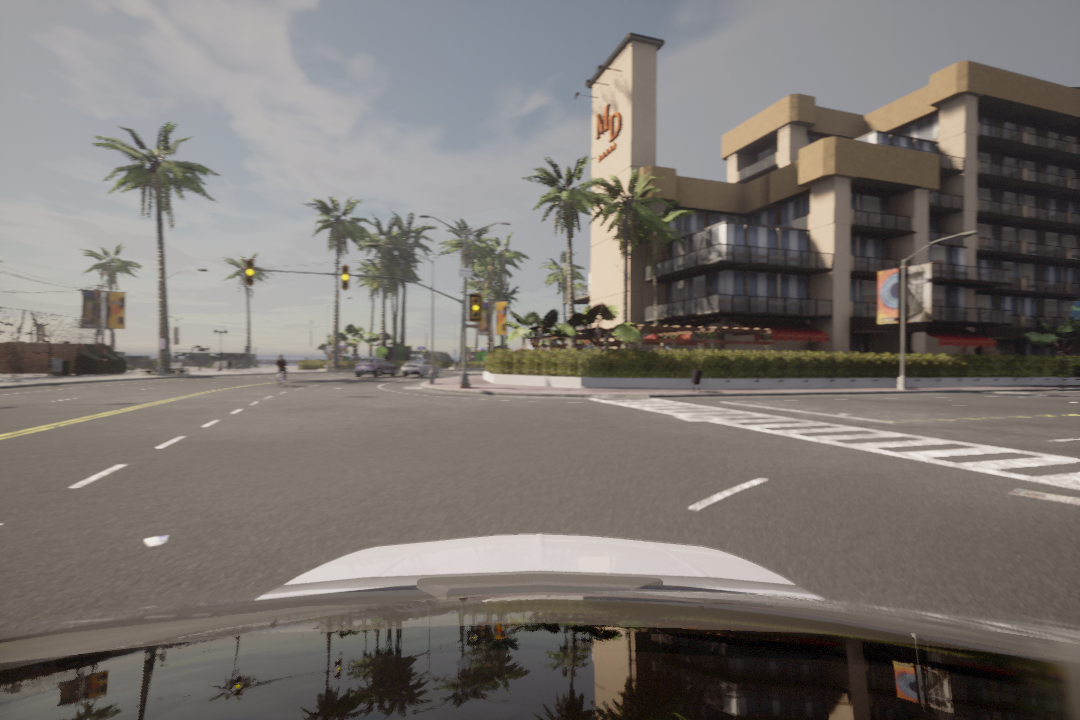TrafficLight: (469, 294, 484, 324), (241, 258, 255, 286), (341, 264, 352, 294)
walkside: (597, 394, 1080, 494)
